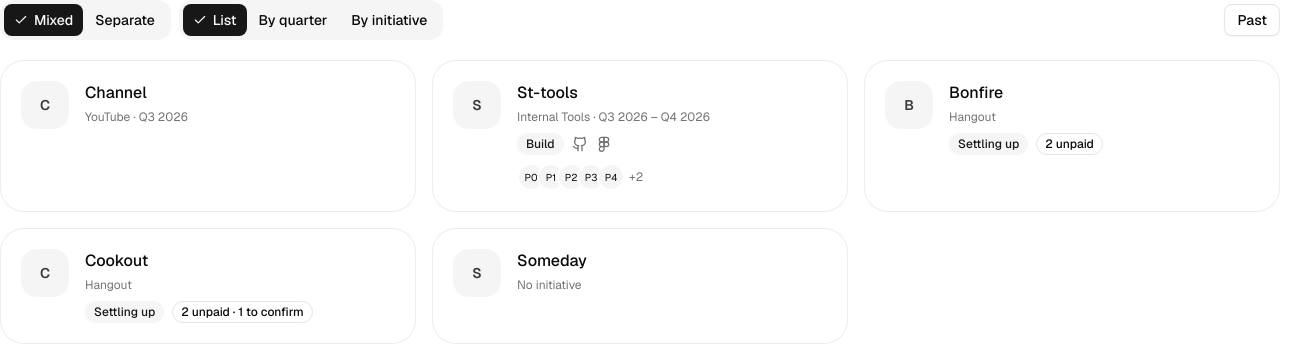
Scenario: ProjectOverview › keeps settling-up hangouts in the main list with an unpaid badge and files done ones under Past
expect the text "Settling up" is shown 2 times: met, box [949, 133, 1028, 155]; [85, 301, 164, 323]
expect the text "2 unpaid" is shown: met, box [1036, 133, 1103, 155]
Click the button "Past" at (1252, 20), box [1224, 4, 1280, 36]
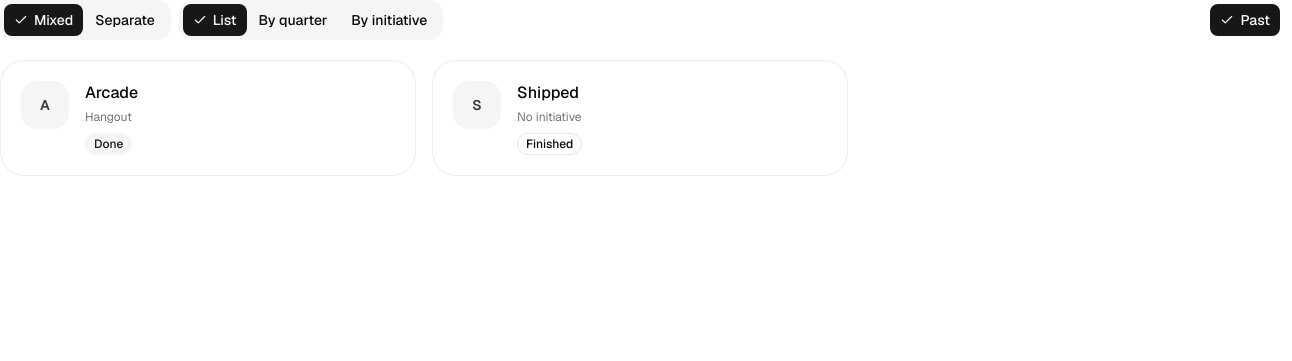
expect the text "Arcade" is shown: met, box [85, 82, 138, 103]
expect the text "Done" is shown: met, box [85, 133, 132, 155]
expect the link "unpaid" is gone: met
